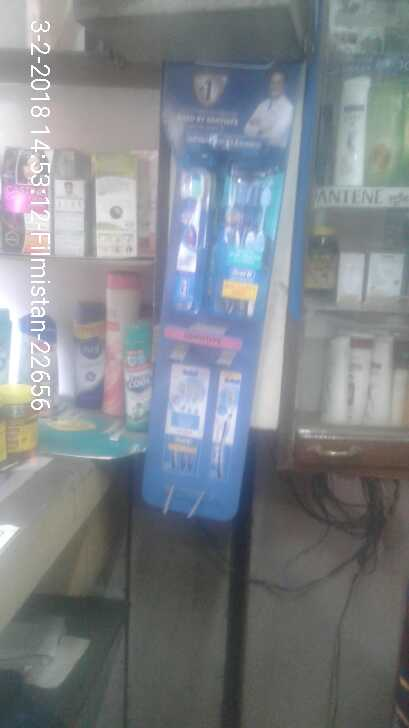oralb: (216, 172, 273, 316), (166, 165, 202, 316)
